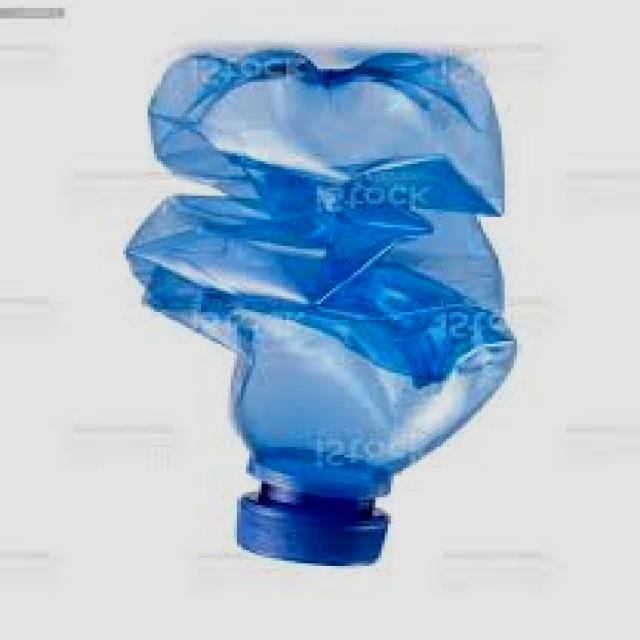bottle: (123, 48, 520, 588)
